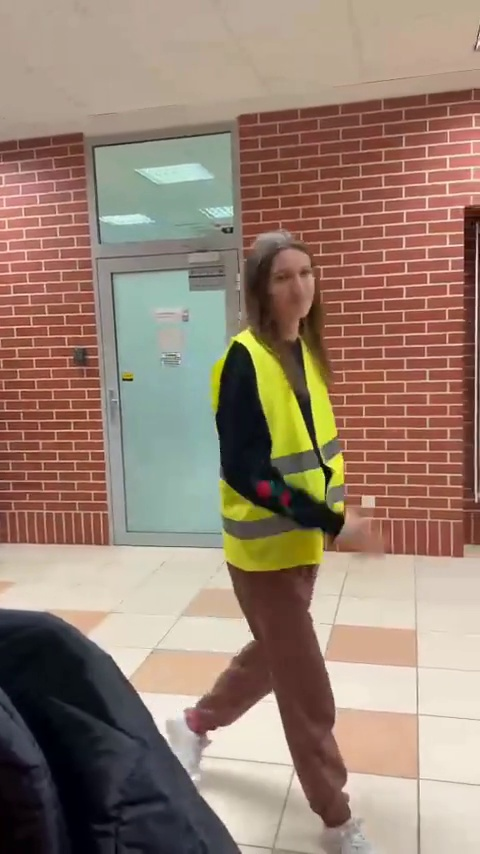vest: (199, 232, 383, 812)
